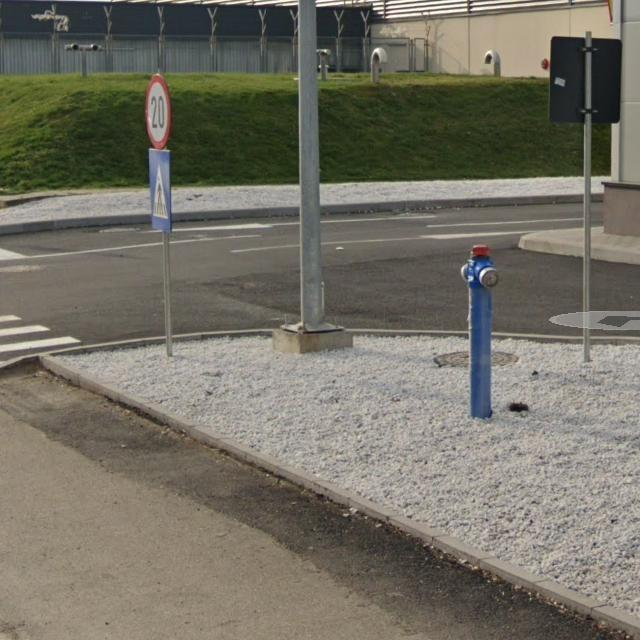forb_speed_over_20: (145, 73, 172, 151)
info_crosswalk: (148, 149, 173, 230)
